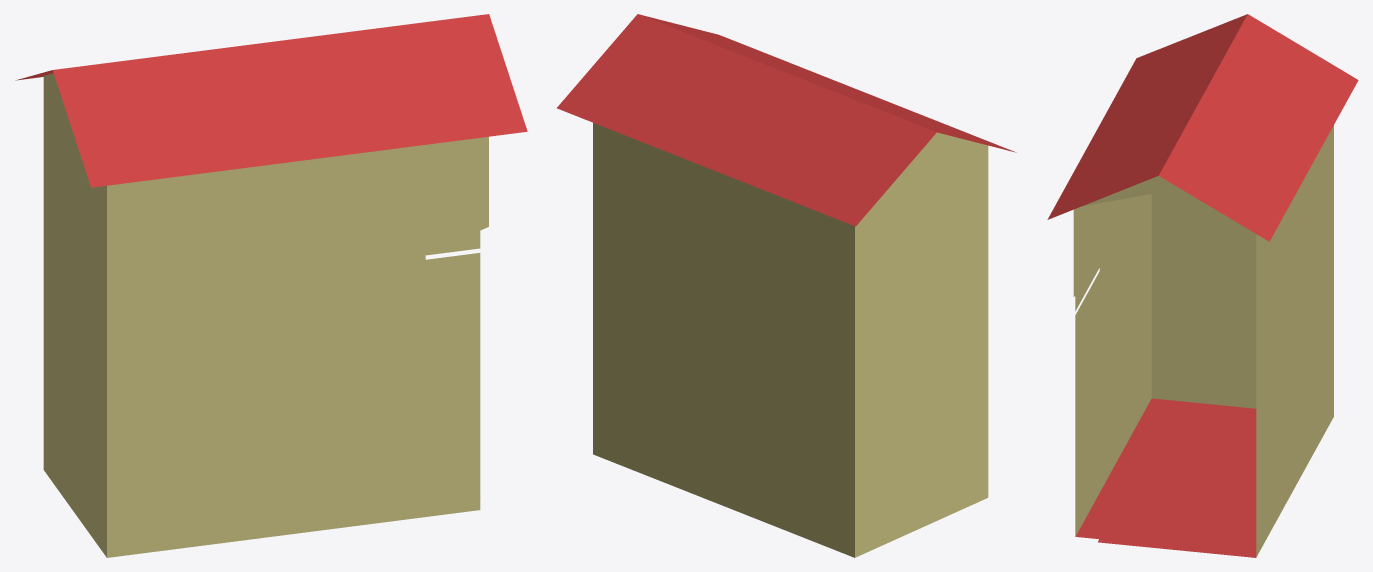
3 views of the same model, side by side, from view 1: azimuth 30°, elevation 25°; view 2: azimuth 150°, elevation 25°; view 3: azimuth 270°, elevation 25° (orthographic). The views are drawn at different scales.
Size of the model in its own units: 10.65 by 7.63 by 10.41.
